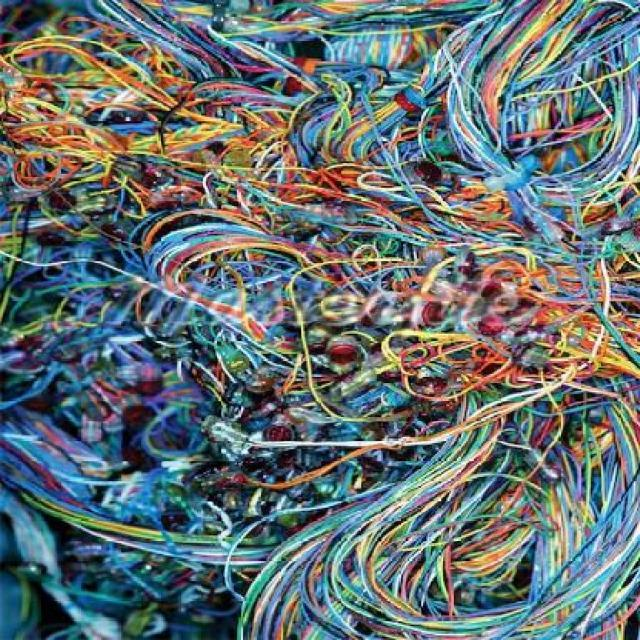garbage: (3, 4, 638, 640)
